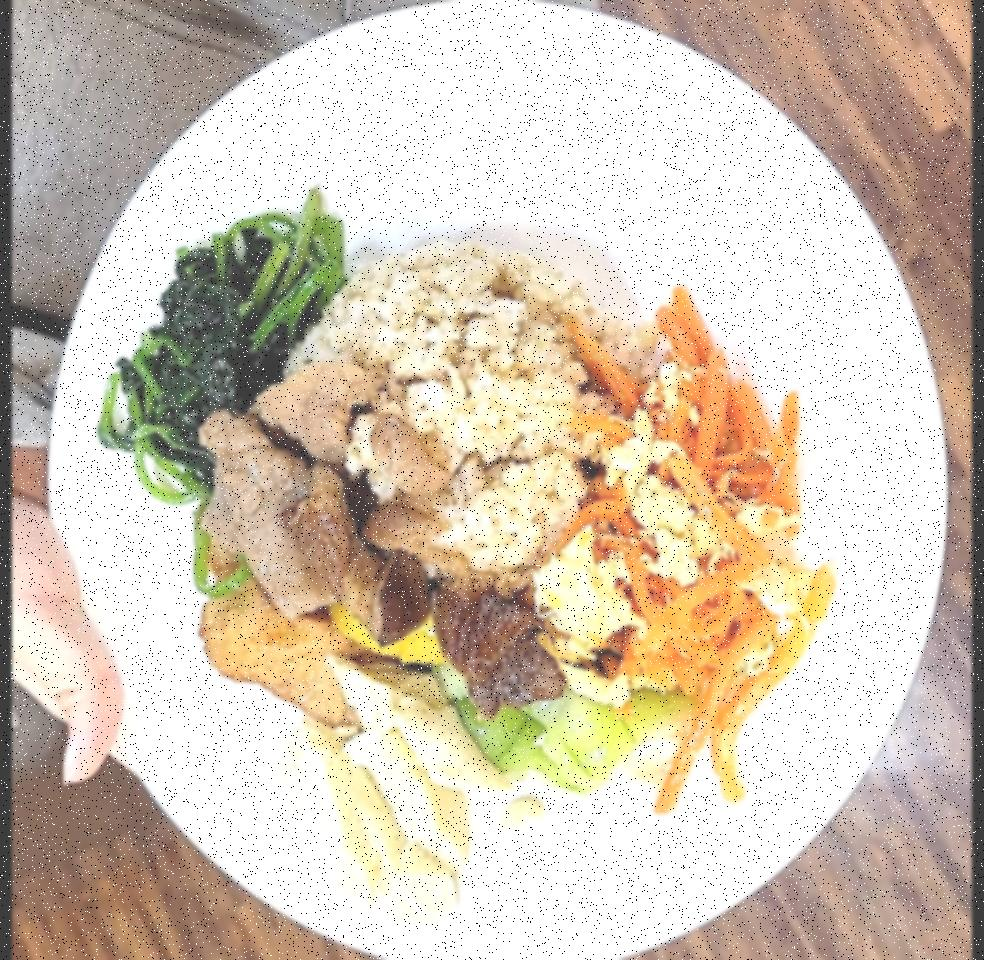braised pork: (198, 370, 552, 706)
brown rice: (294, 248, 612, 577)
plate: (46, 0, 961, 960)
side dish: (535, 316, 833, 713), (102, 201, 341, 492), (278, 670, 482, 929), (454, 686, 682, 786)
